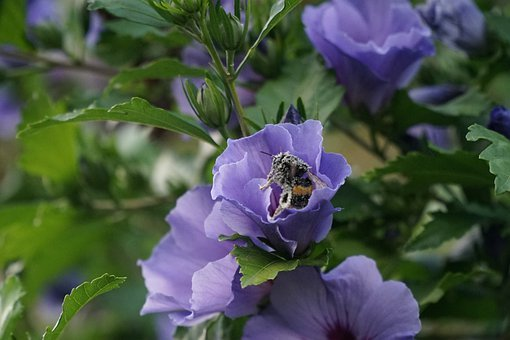Hibiscus: (290, 1, 459, 122), (255, 228, 434, 340), (136, 176, 265, 328), (213, 122, 355, 247)
